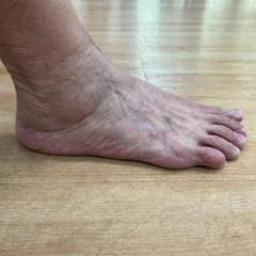Lateral View -Right Foot-: (1, 65, 252, 178)
